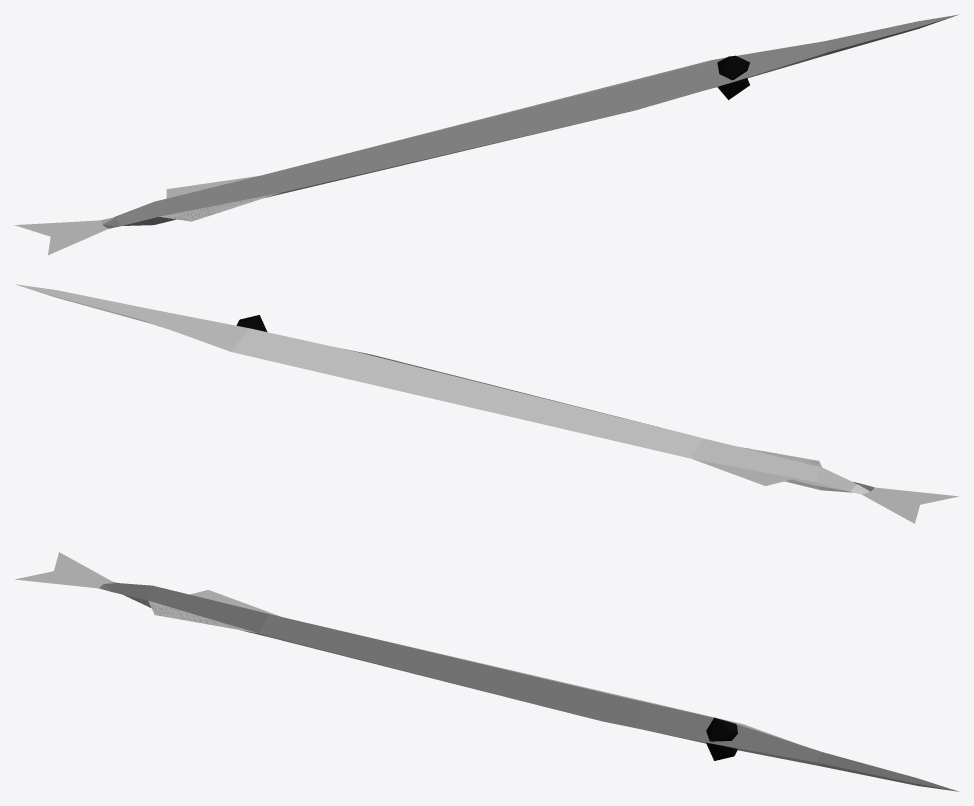
File: Needlefish.glb
3 renders of one model, top to bottom at view 1: azimuth 30°, elevation 25°; view 2: azimuth 150°, elevation 25°; view 3: azimuth 330°, elevation 25°, orthographic.
Visible parts, largest first — view 1: Needlefish; view 2: Needlefish; view 3: Needlefish.
Boxes of the visible parts, box(x1,y1,x2,y2) form: Needlefish: box(14, 14, 958, 255); Needlefish: box(15, 284, 959, 523); Needlefish: box(14, 552, 958, 791).
Size of the model in its own units: 0.4095 by 0.0184 by 0.0311.
Materials: 1 (1 with a texture image).
